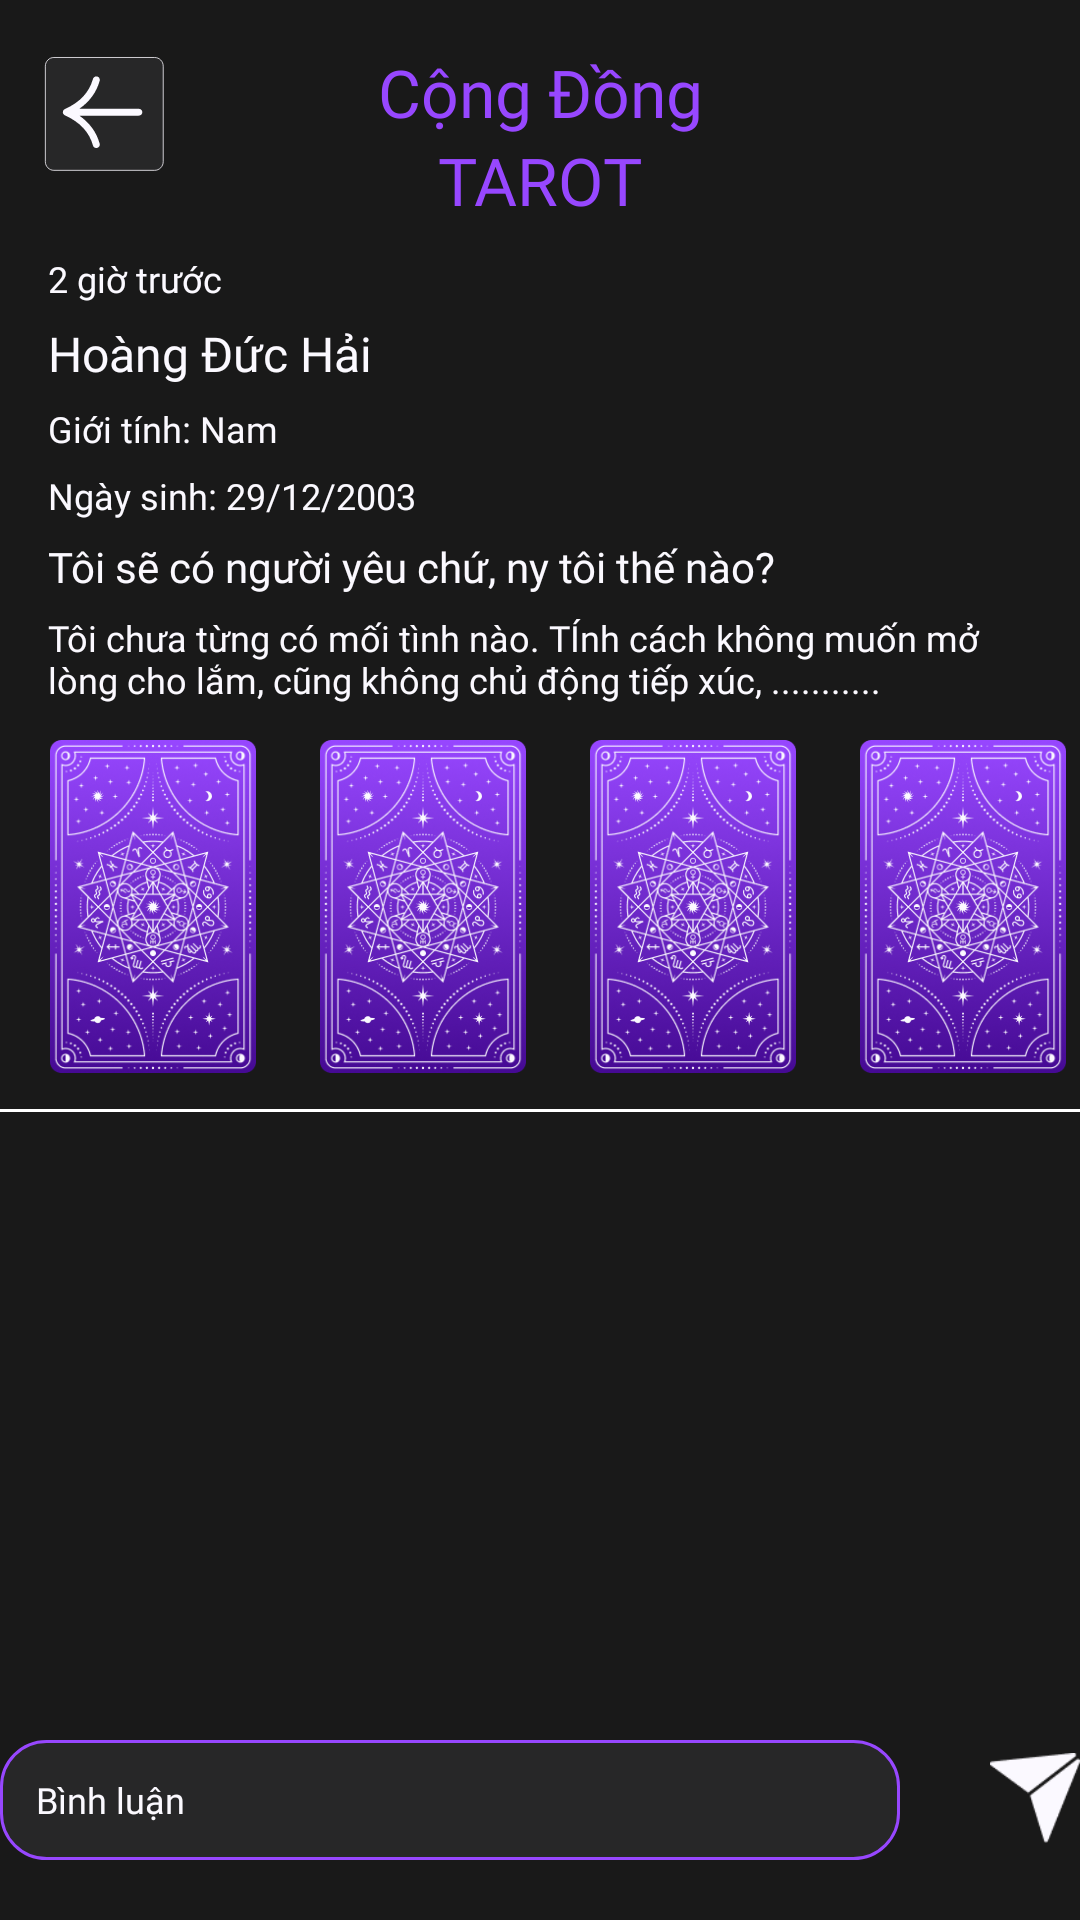

Icons on this 1080 × 1920 Android screen, each with the point to tap as (x=x, y=y):
tarot card back: (x=153, y=906), (x=423, y=906), (x=693, y=906), (x=963, y=906)
